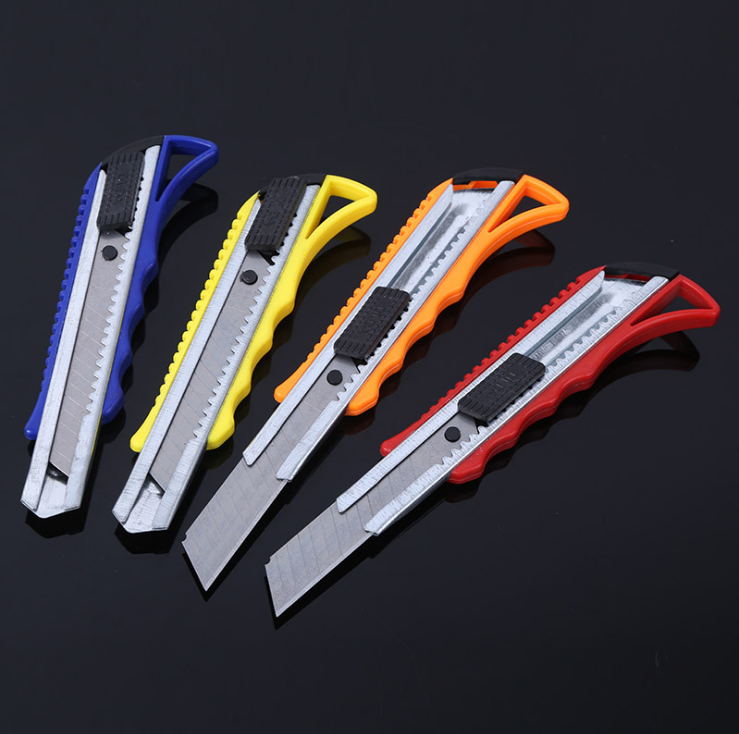cutter: (180, 165, 572, 598), (262, 261, 720, 618), (111, 167, 377, 535), (21, 133, 219, 519)
